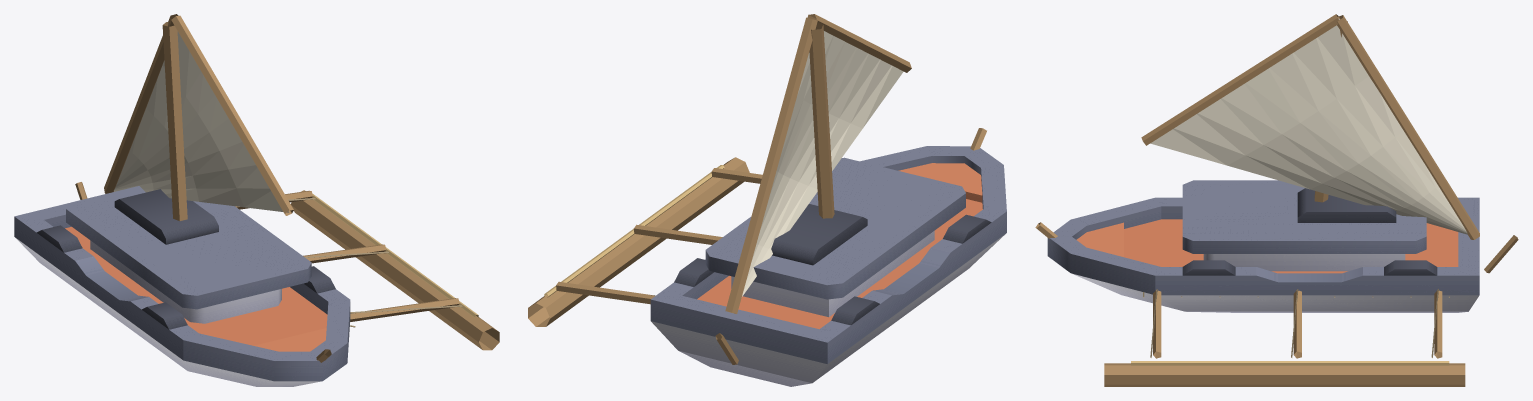
File: prau-custom.glb
The picture shows the model from 3 angles, left to right: view 1: azimuth 30°, elevation 25°; view 2: azimuth 150°, elevation 25°; view 3: azimuth 270°, elevation 25°; orthographic projection. The views are drawn at different scales.
Parts seen in each view (by area): view 1: boat-sail-b, prau wood, prau linen, prau bronze, prau rope; view 2: boat-sail-b, prau wood, prau linen, prau bronze; view 3: boat-sail-b, prau linen, prau wood, prau bronze, prau rope.
Boxes of the visible parts, <box> form: boat-sail-b: <box>14,186,350,386</box>; prau wood: <box>75,14,499,362</box>; prau linen: <box>114,31,288,212</box>; prau bronze: <box>312,193,478,317</box>; prau rope: <box>288,198,462,327</box>; boat-sail-b: <box>650,146,1006,386</box>; prau wood: <box>528,14,986,364</box>; prau linen: <box>742,31,903,296</box>; prau bronze: <box>544,165,724,297</box>; boat-sail-b: <box>1047,180,1479,312</box>; prau linen: <box>1150,18,1467,234</box>; prau wood: <box>1035,14,1518,386</box>; prau bronze: <box>1131,361,1449,365</box>; prau rope: <box>1143,289,1449,357</box>.
Bounding box in the file's own units: 6.05 × 5.88 × 9.1.
5 materials, 1 textured.
